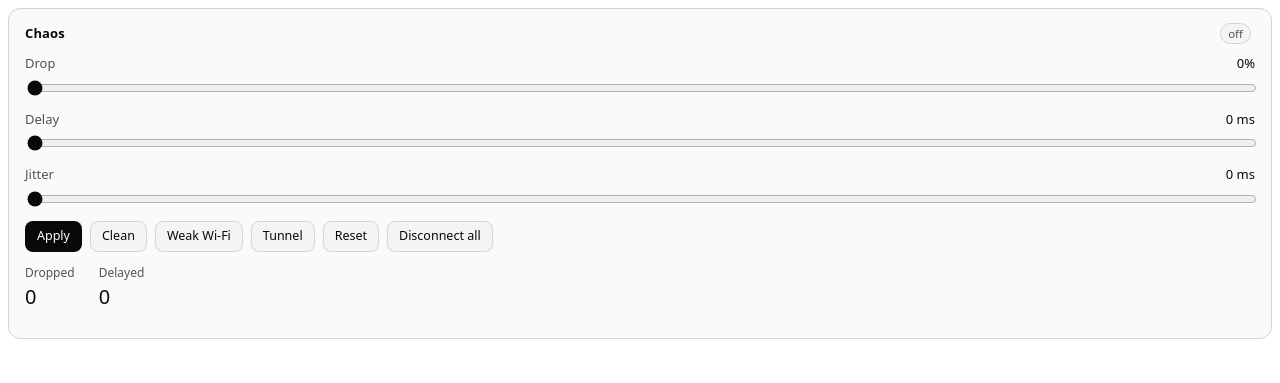
Test: ChaosDropSimulator › shows the server's refusal
This screenshot has width=1280, height=383.
Expected: the text "Dropped" is shown, [25,264,75,282]
Click the button "Apply" at [54, 236], box [25,221,82,252]
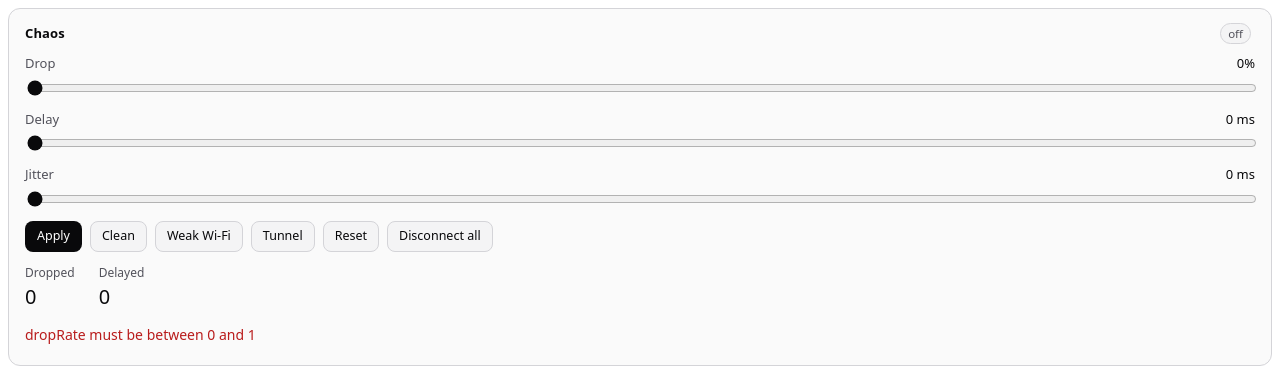
Now the message reads "dropRate must be between 0 and 1", box [25,325,256,344]
